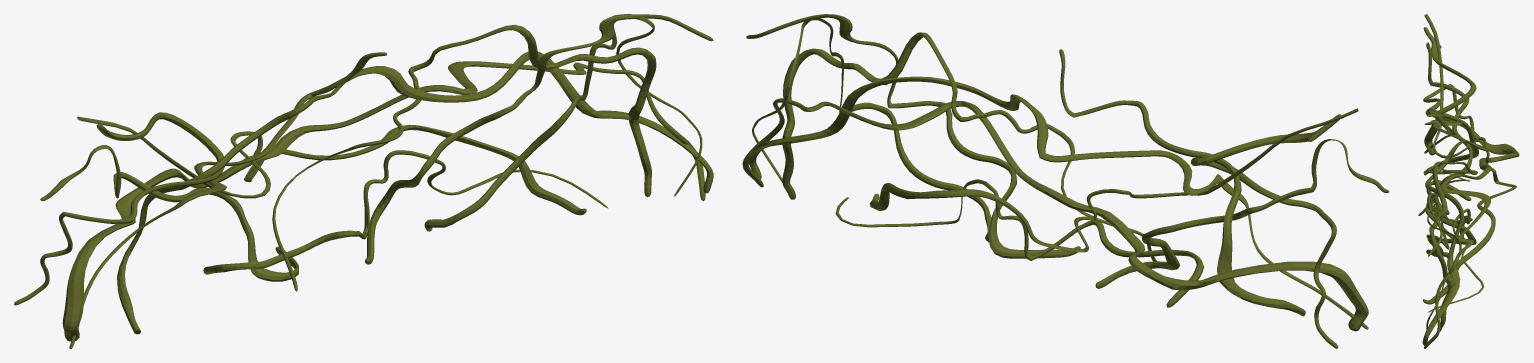
File: ivy.fbx
The picture shows the model from 3 angles, left to right: view 1: azimuth 30°, elevation 25°; view 2: azimuth 150°, elevation 25°; view 3: azimuth 270°, elevation 25°; orthographic projection. The views are drawn at different scales.
Parts seen in each view (by area): view 1: ivy1.002; view 2: ivy1.002; view 3: ivy1.002.
Boxes of the visible parts, bbox=[...] form: ivy1.002: bbox=[14, 14, 713, 348]; ivy1.002: bbox=[742, 14, 1389, 348]; ivy1.002: bbox=[1418, 14, 1519, 348].
Size of the model in its own units: 791 by 264 by 166.
